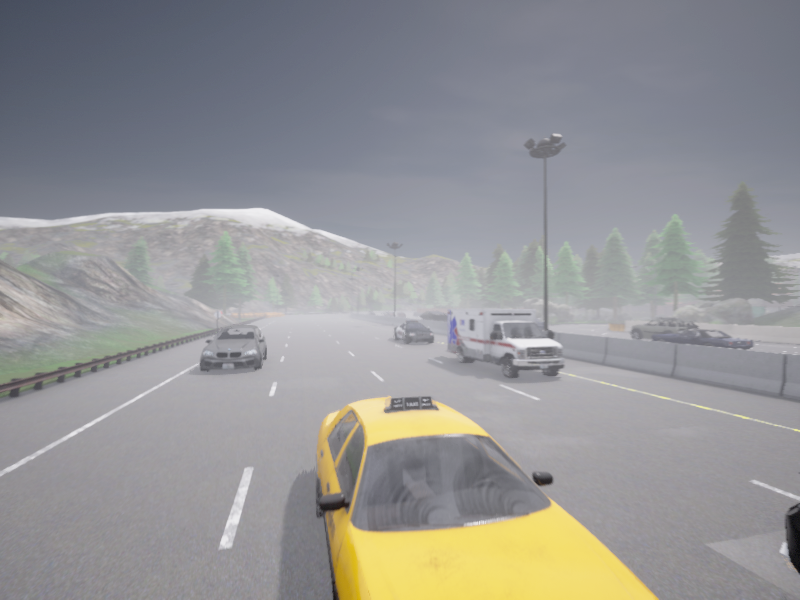vehicle: (315, 396, 658, 599), (446, 309, 563, 378), (200, 325, 266, 371), (651, 329, 753, 349), (780, 472, 799, 574), (630, 317, 699, 339), (393, 321, 433, 344), (420, 311, 446, 321), (536, 319, 543, 329), (396, 312, 405, 317), (382, 312, 390, 316), (367, 311, 374, 314), (389, 312, 393, 314)
